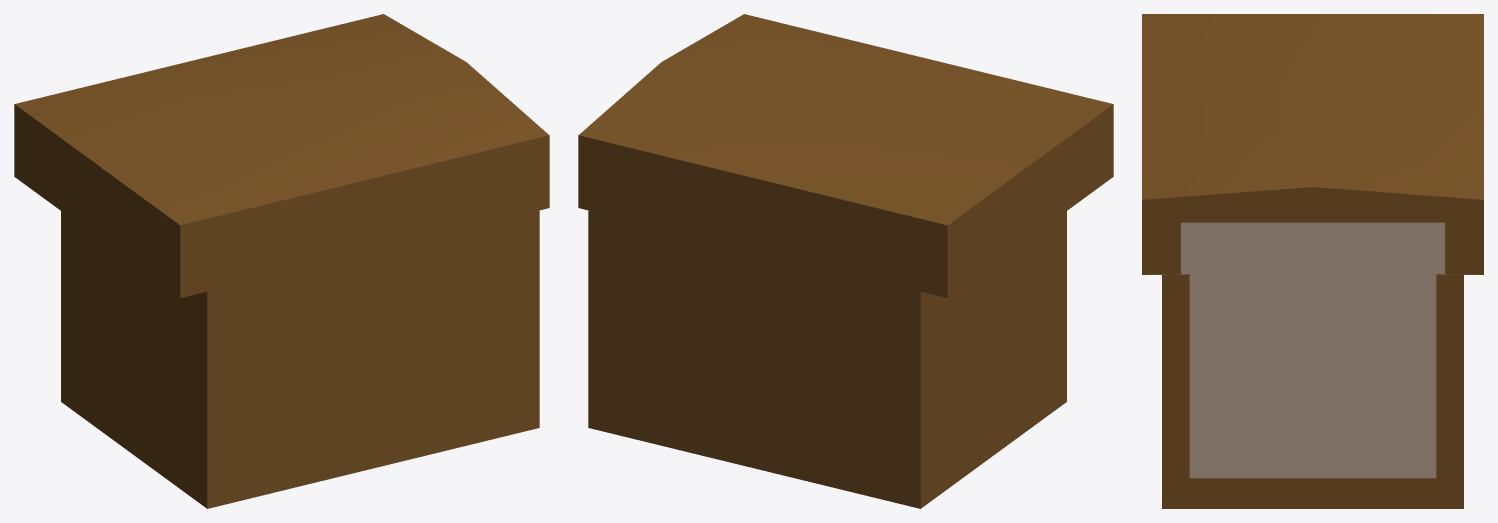
The model's file is Bread.fbx.
The picture shows the model from 3 angles, left to right: view 1: azimuth 30°, elevation 25°; view 2: azimuth 150°, elevation 25°; view 3: azimuth 270°, elevation 25°; orthographic projection. The views are drawn at different scales.
Visible parts, largest first — view 1: pCube1; view 2: pCube1; view 3: pCube1.
Boxes of the visible parts, x1=… form: pCube1: x1=14, y1=14, x2=549, y2=508; pCube1: x1=578, y1=14, x2=1113, y2=508; pCube1: x1=1142, y1=14, x2=1483, y2=508.
Size of the model in its own units: 1.46 by 1.19 by 1.13.
